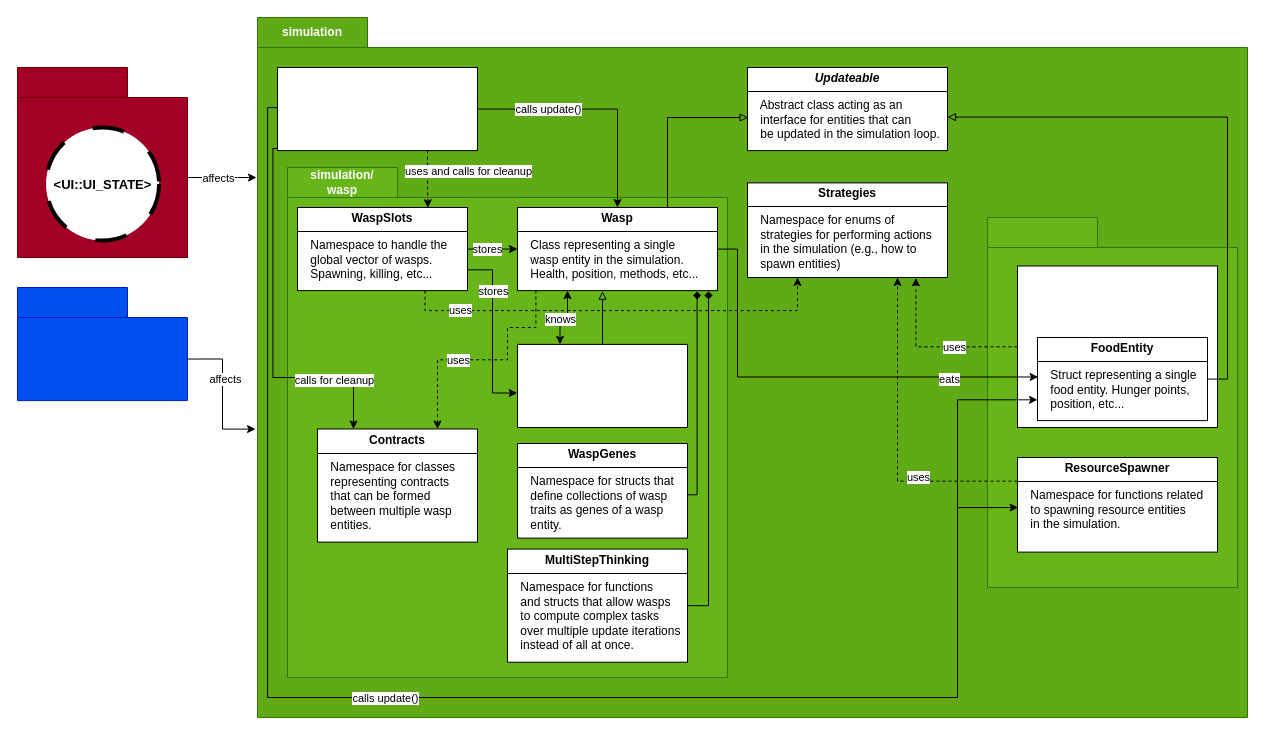
Some shapes in this 1265 by 735 pixel diagram are drawn without their labels. Here are the shapes that lost their labels. From the top down, the box of each, then its label:
(276, 66, 478, 151): Simulation Namespace for the core loop of the wasp colony simulation.
(16, 66, 188, 258): graphics
(16, 286, 188, 401): console
(1016, 265, 1218, 428): Food Namespace for code related to food entities.
(516, 343, 688, 428): Queen A subclass of Wasp that represents the single queen of the colony.
(986, 216, 1238, 588): simulation/ resources
